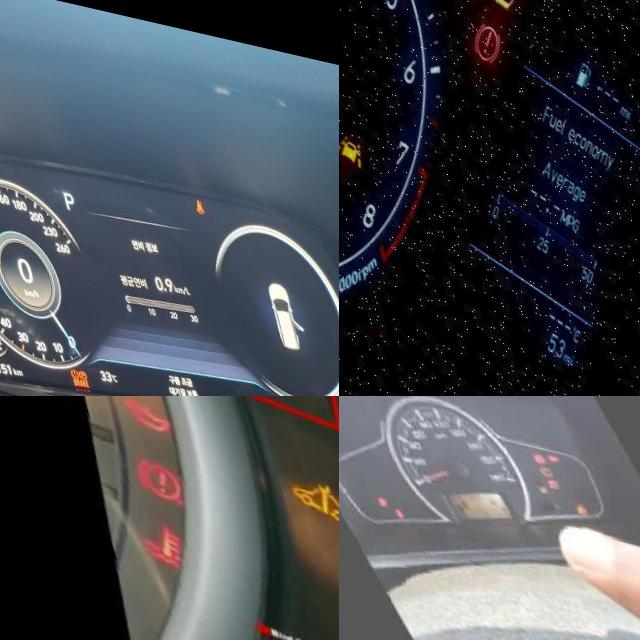Engine cooling system: (96, 493, 167, 568)
